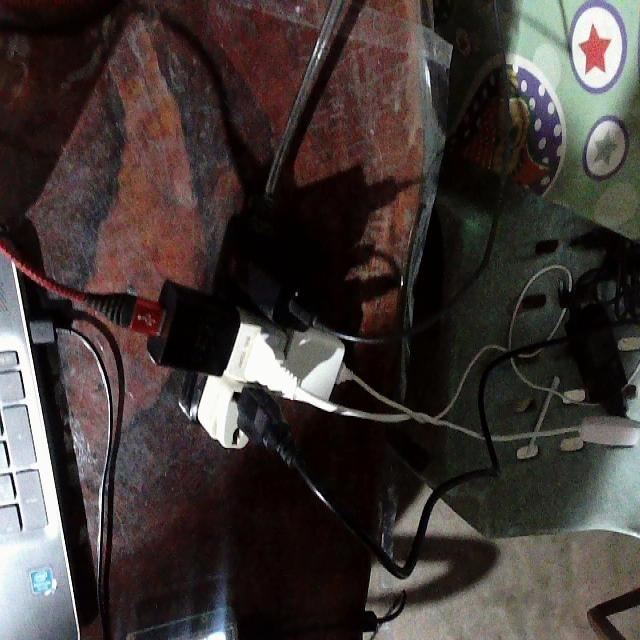-: (131, 203, 346, 452)
